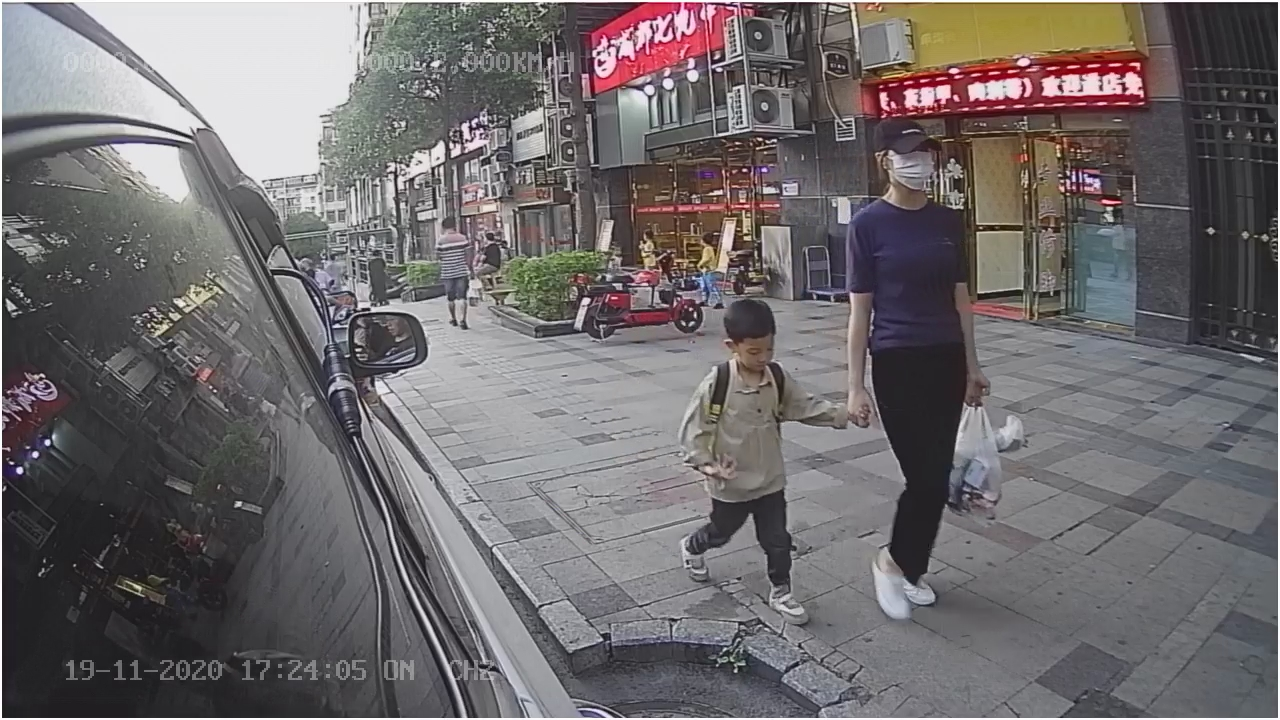person: (841, 118, 997, 630), (671, 292, 846, 630), (433, 212, 475, 333)
